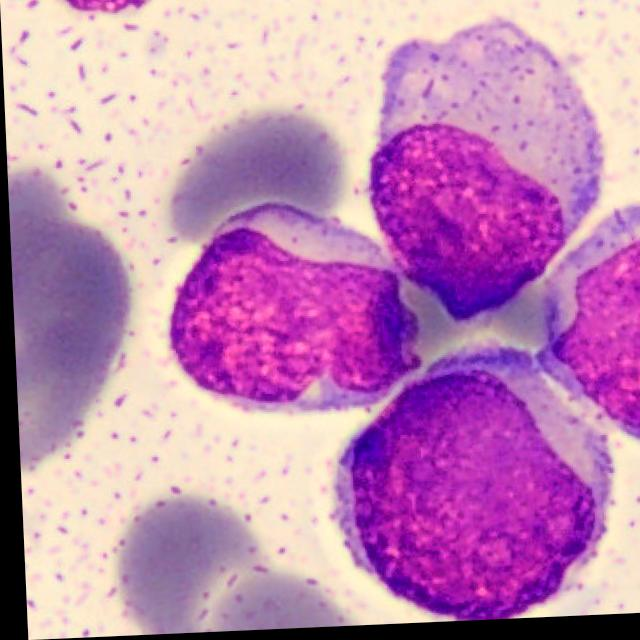Mieloblasto: (329, 357, 610, 624), (366, 24, 601, 326), (165, 208, 421, 413)
